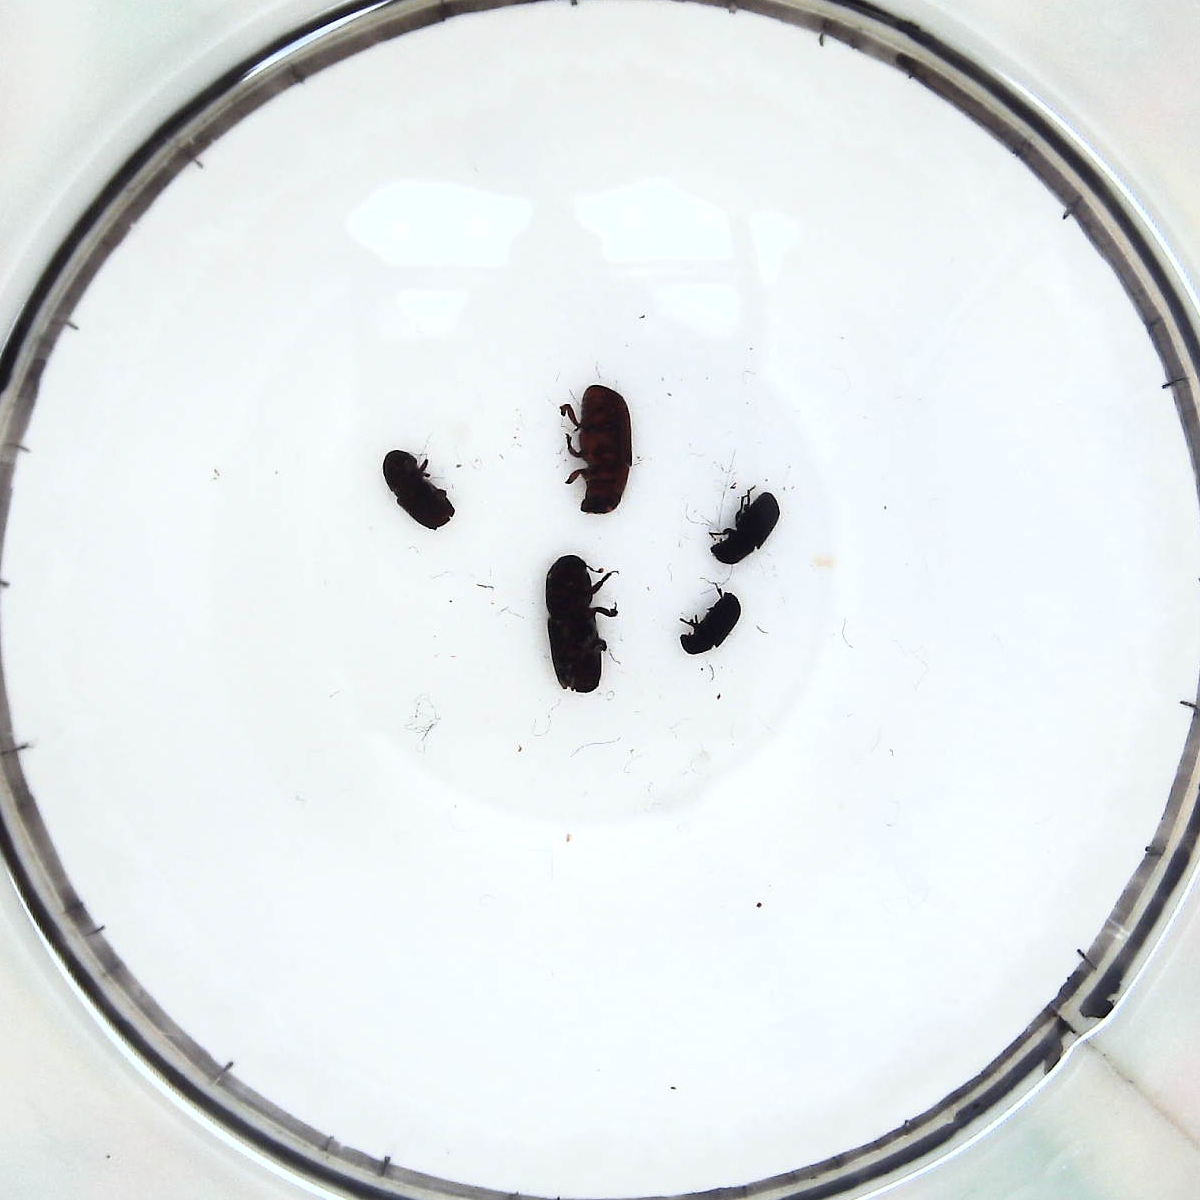Boerner: (544, 556, 616, 690)
Leconte: (568, 381, 635, 520)
Linnaeus: (377, 444, 454, 532)
armandi: (713, 492, 784, 565)
coleoptera: (677, 595, 746, 660)
